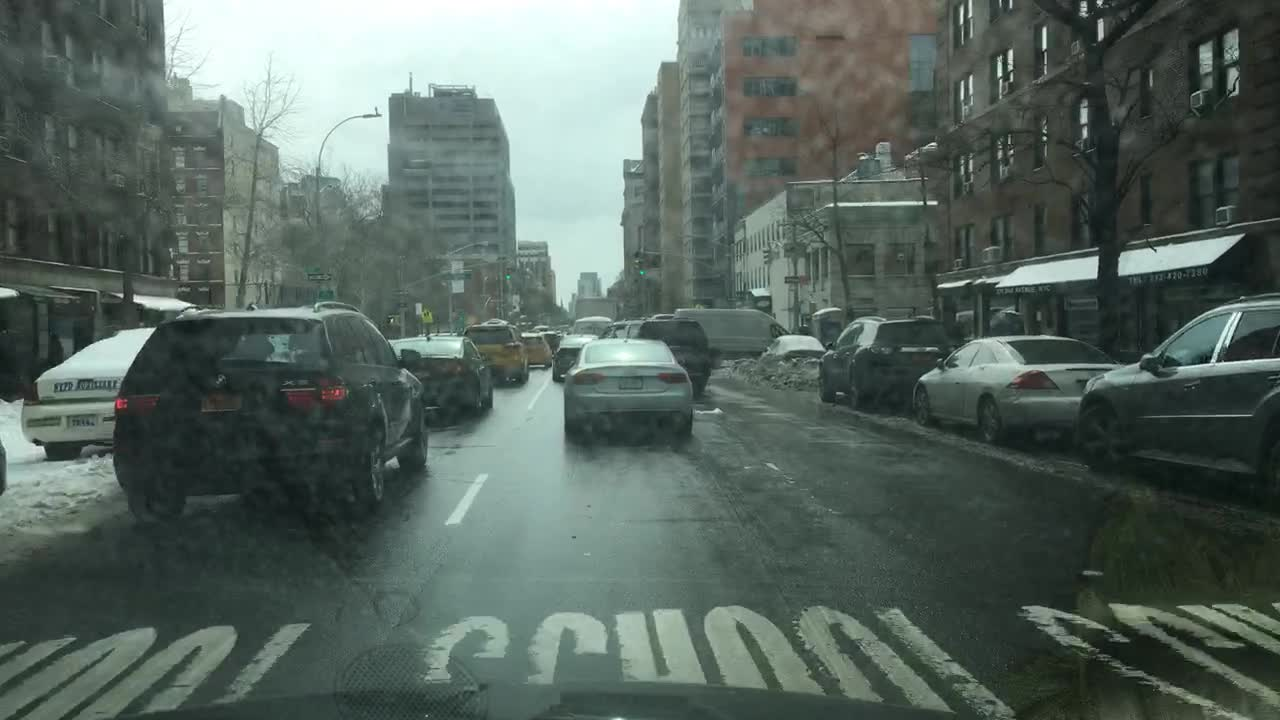car: (111, 298, 437, 528), (1076, 289, 1279, 489), (914, 333, 1121, 458), (19, 325, 157, 461), (562, 331, 700, 445), (821, 317, 958, 414), (388, 335, 494, 421), (637, 319, 712, 395), (463, 322, 527, 385), (547, 332, 599, 383), (760, 333, 832, 368), (518, 333, 549, 372), (571, 316, 608, 339), (604, 318, 644, 338), (544, 328, 560, 346)
traffic light: (501, 269, 513, 280), (634, 267, 647, 276)
traffic sign: (306, 271, 331, 281), (443, 271, 472, 279), (316, 288, 335, 300), (302, 263, 321, 272)
truck: (673, 306, 793, 361)
